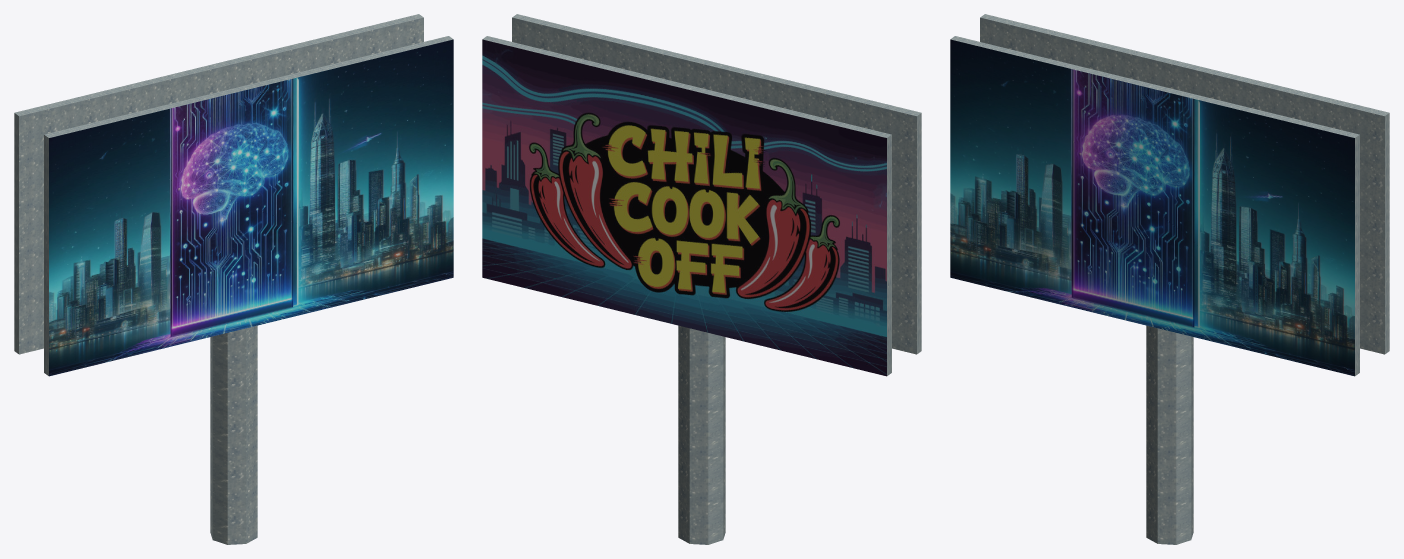
File: billboard.glb
3 renders of one model, left to right at view 1: azimuth 30°, elevation 25°; view 2: azimuth 150°, elevation 25°; view 3: azimuth 330°, elevation 25°, orthographic.
Visible parts, largest first — view 1: Billboard_1920x1080_001; view 2: Billboard_1920x1080_001; view 3: Billboard_1920x1080_001.
Boxes of the visible parts, left/top/right/bottom form: Billboard_1920x1080_001: left=14, top=14, right=453, bottom=544; Billboard_1920x1080_001: left=482, top=14, right=921, bottom=544; Billboard_1920x1080_001: left=950, top=14, right=1389, bottom=544.
Bounding box in the file's own units: 19.2 × 20.8 × 2.85.
Materials: 3 (3 with a texture image).
